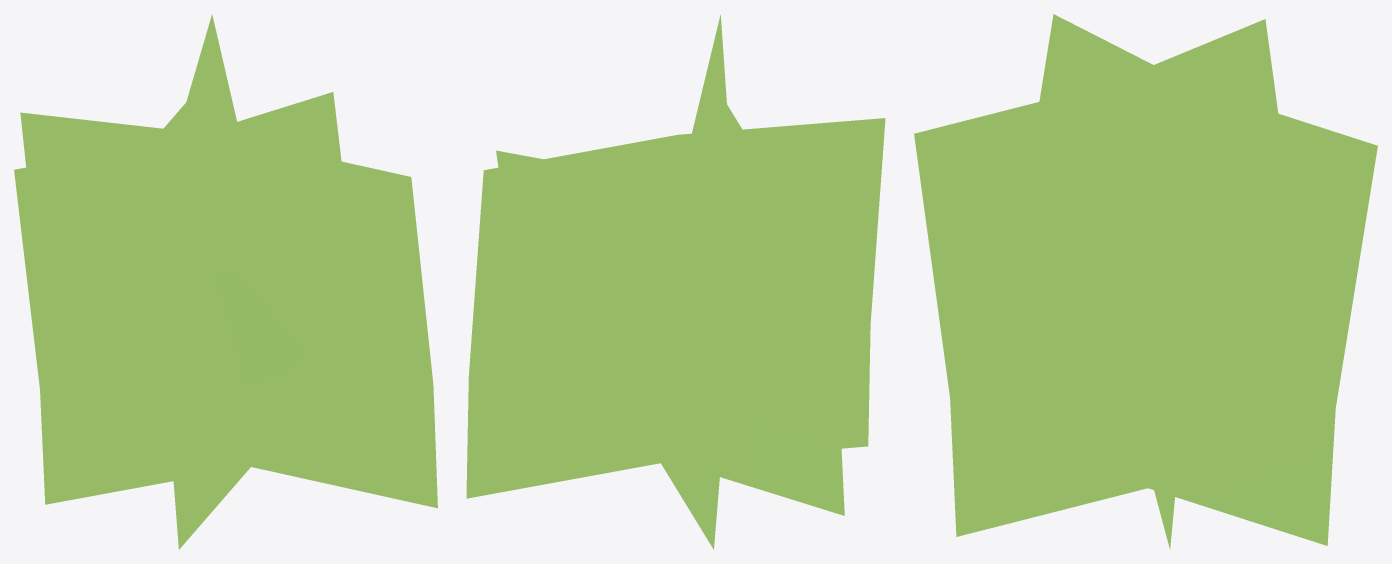
Rendered from GrassPlanes_a_TwoS_09.fbx.
3 renders of one model, left to right at view 1: azimuth 30°, elevation 25°; view 2: azimuth 150°, elevation 25°; view 3: azimuth 270°, elevation 25°, orthographic. The views are drawn at different scales.
Parts seen in each view (by area): view 1: GrassPlanes_a_TwoS_09; view 2: GrassPlanes_a_TwoS_09; view 3: GrassPlanes_a_TwoS_09.
Part boxes in pixels (x1=…): GrassPlanes_a_TwoS_09: x1=14, y1=14, x2=437, y2=549; GrassPlanes_a_TwoS_09: x1=466, y1=15, x2=885, y2=549; GrassPlanes_a_TwoS_09: x1=914, y1=14, x2=1377, y2=549.
Bounding box in the file's own units: 0.6925 × 0.7444 × 0.8214.
